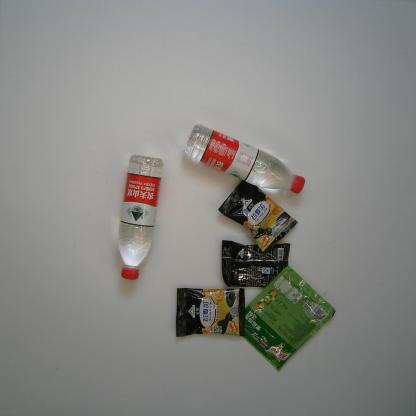Drink: (182, 123, 306, 194), (118, 154, 164, 281)
Instant Drink: (217, 179, 298, 254), (176, 287, 246, 337), (220, 239, 291, 288)
Seasoner: (236, 265, 337, 372)
